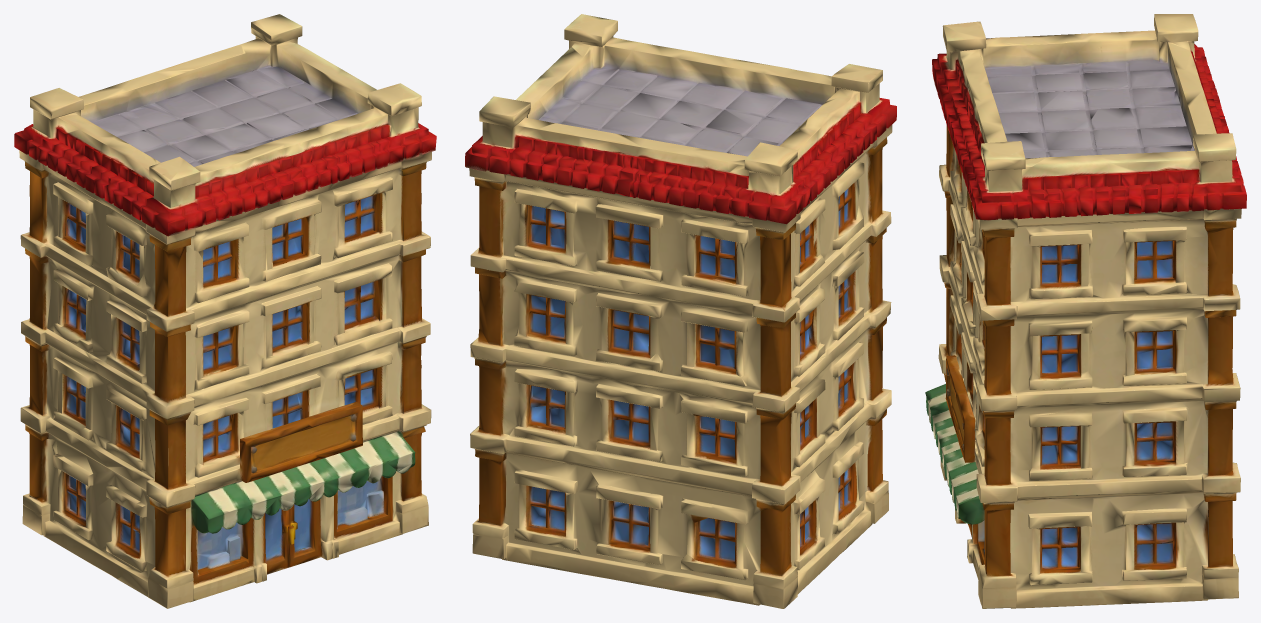
File: shop-4-lite.glb
3 renders of one model, left to right at view 1: azimuth 30°, elevation 25°; view 2: azimuth 150°, elevation 25°; view 3: azimuth 270°, elevation 25°, orthographic. The views are drawn at different scales.
Parts seen in each view (by area): view 1: tripo_node_a026ecae-ddbc-4c12-92a4-12afba4ccc64; view 2: tripo_node_a026ecae-ddbc-4c12-92a4-12afba4ccc64; view 3: tripo_node_a026ecae-ddbc-4c12-92a4-12afba4ccc64.
Boxes of the visible parts, x1,y1,x2,y2 form: tripo_node_a026ecae-ddbc-4c12-92a4-12afba4ccc64: [14, 14, 436, 608]; tripo_node_a026ecae-ddbc-4c12-92a4-12afba4ccc64: [465, 14, 896, 608]; tripo_node_a026ecae-ddbc-4c12-92a4-12afba4ccc64: [925, 14, 1246, 608].
Bounding box in the file's own units: 2.28 × 3 × 1.94.
1 material, 1 textured.
